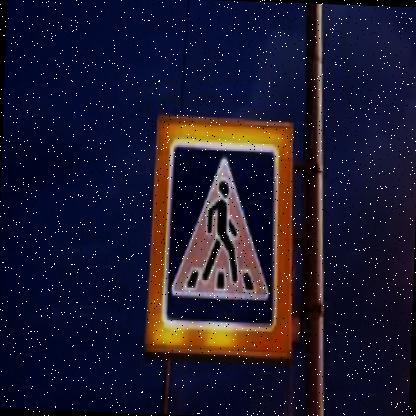crosswalk: (160, 140, 278, 328)
